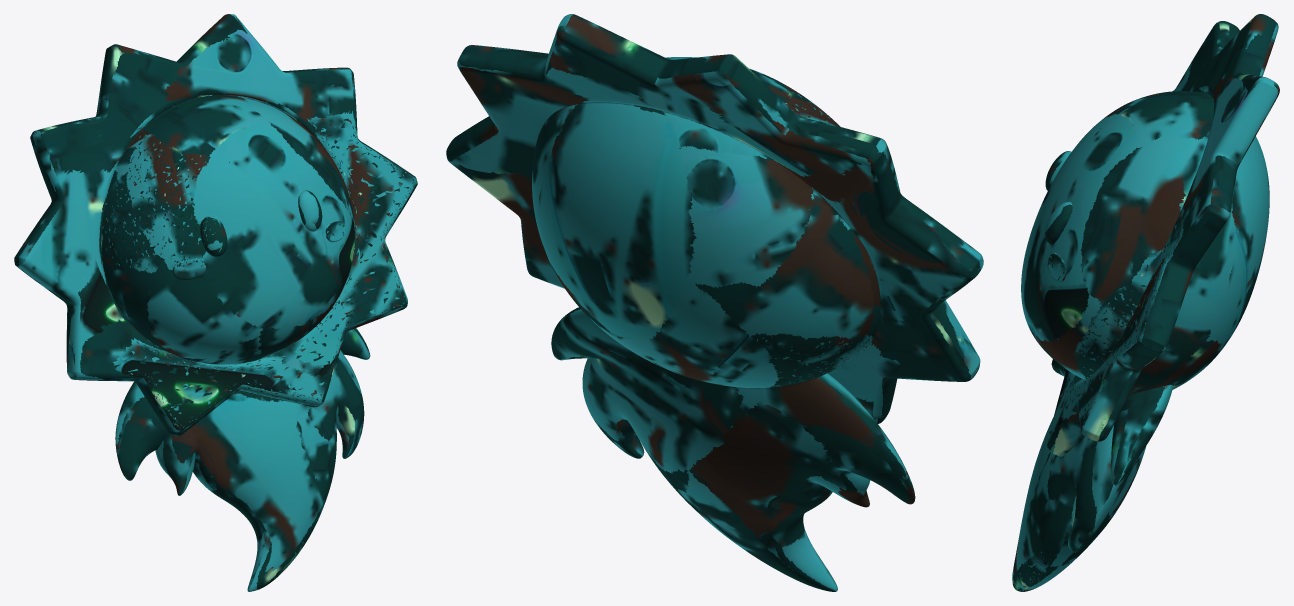
Rendered from light2.fbx.
The picture shows the model from 3 angles, left to right: view 1: azimuth 30°, elevation 25°; view 2: azimuth 150°, elevation 25°; view 3: azimuth 270°, elevation 25°; orthographic projection. The views are drawn at different scales.
Parts seen in each view (by area): view 1: texture_pbr_v128; view 2: texture_pbr_v128; view 3: texture_pbr_v128.
Boxes of the visible parts, bbox=[...] form: texture_pbr_v128: bbox=[14, 14, 417, 591]; texture_pbr_v128: bbox=[446, 14, 983, 591]; texture_pbr_v128: bbox=[1012, 14, 1279, 591].
Size of the model in its own units: 91.82 by 107 by 46.85.
